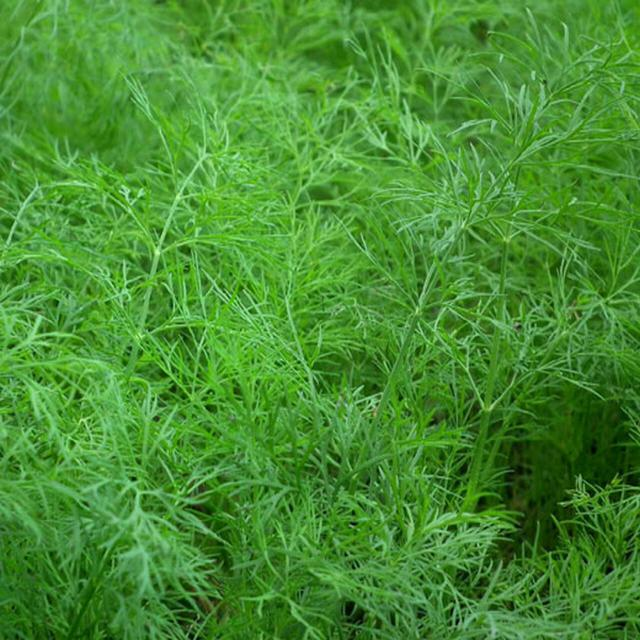Dill: (3, 0, 640, 637)
